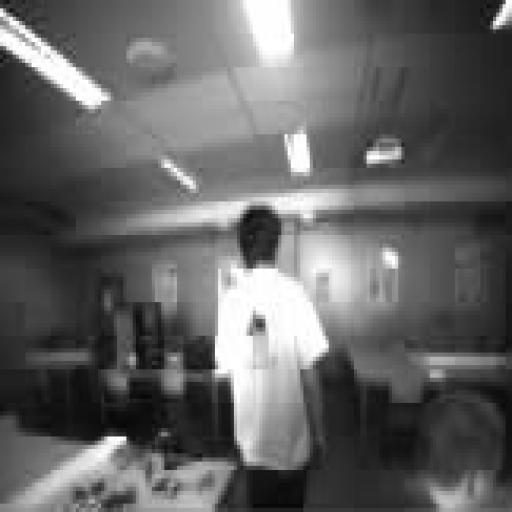human: (215, 206, 328, 507), (418, 391, 511, 511)
